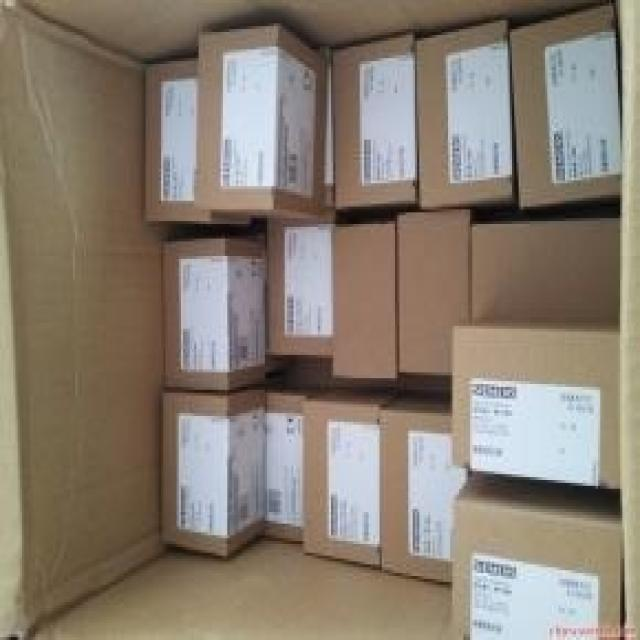box: (452, 472, 623, 637), (452, 325, 619, 487), (193, 27, 329, 220), (509, 5, 623, 208), (266, 61, 333, 354), (302, 382, 405, 571), (414, 20, 513, 210), (378, 387, 472, 586), (164, 385, 269, 559), (145, 58, 252, 225), (473, 218, 621, 327), (165, 236, 266, 392), (332, 37, 415, 210), (397, 208, 470, 376), (333, 223, 398, 376), (263, 387, 322, 541)
